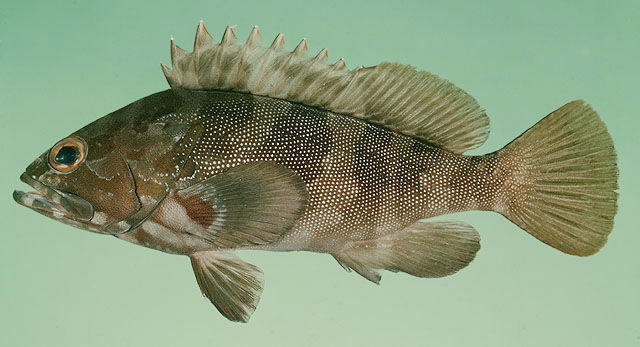fish: (13, 17, 620, 323)
